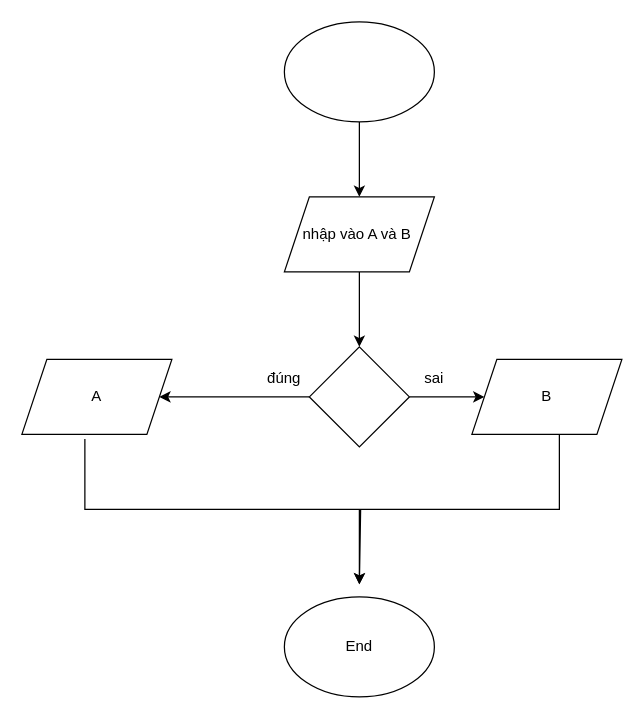
Some shapes in this 644 by 719 pixel diagram are drawn without their labels. Here are the shapes that lost their labels. From the top down, the box of each, then its label:
(283, 21, 434, 122): start
(308, 346, 409, 447): A>B
